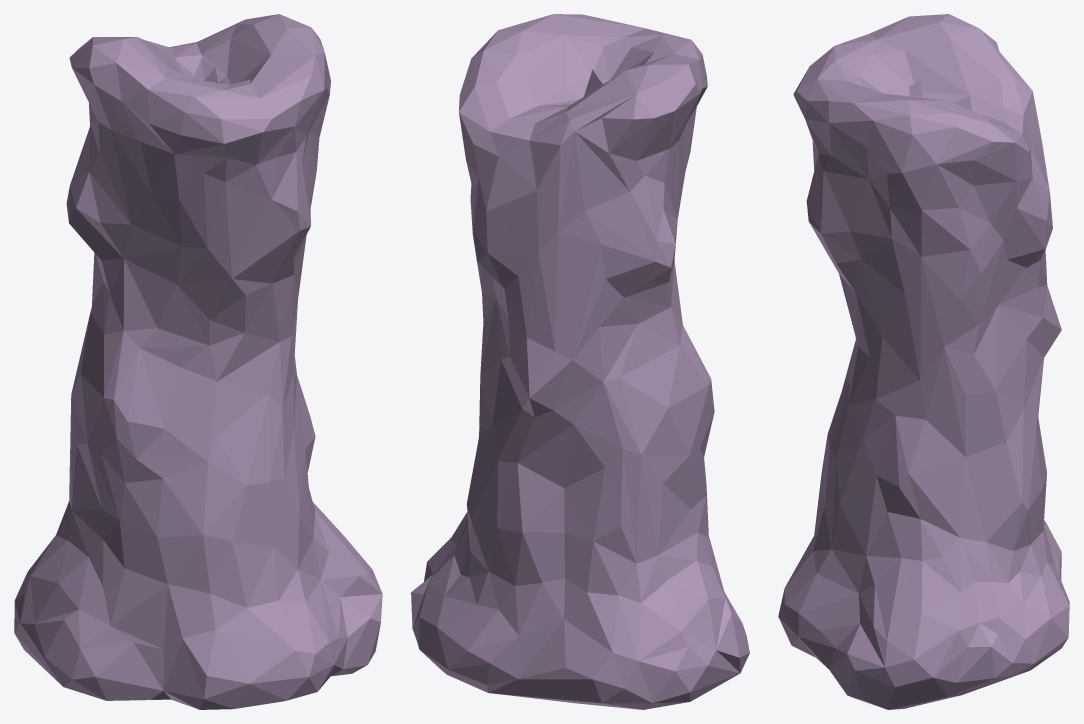
File: candle_2.fbx
3 views of the same model, side by side, from view 1: azimuth 30°, elevation 25°; view 2: azimuth 150°, elevation 25°; view 3: azimuth 270°, elevation 25° (orthographic). The views are drawn at different scales.
Parts seen in each view (by area): view 1: Candle_2; view 2: Candle_2; view 3: Candle_2.
Part boxes in pixels (x1,y1,x2,y2): Candle_2: (14,14,382,709); Candle_2: (411,14,749,709); Candle_2: (778,14,1069,709).
Bounding box in the file's own units: 6.98 × 13.41 × 5.95.
